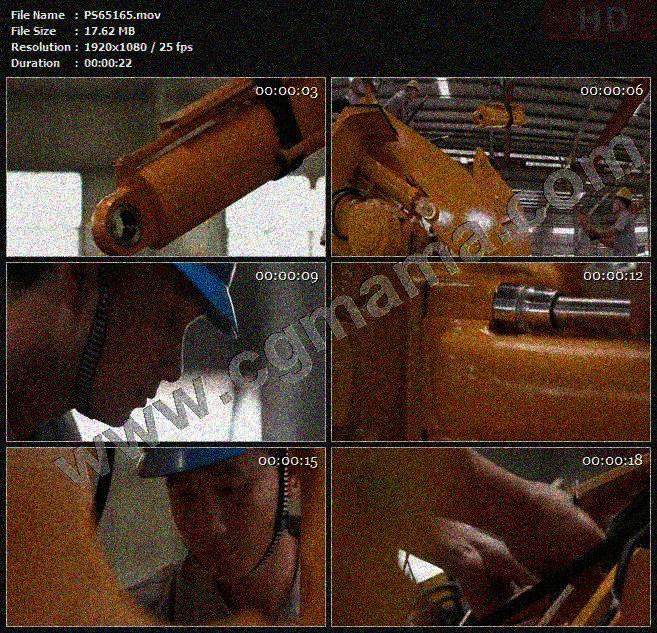helmet: (17, 262, 244, 428), (131, 449, 293, 588), (609, 187, 636, 218), (404, 79, 422, 100)
